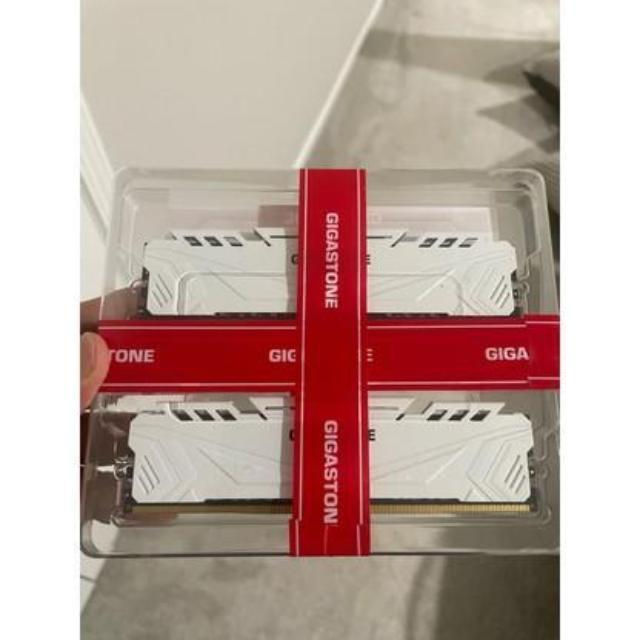RAM: (120, 392, 542, 520), (137, 226, 528, 332)
